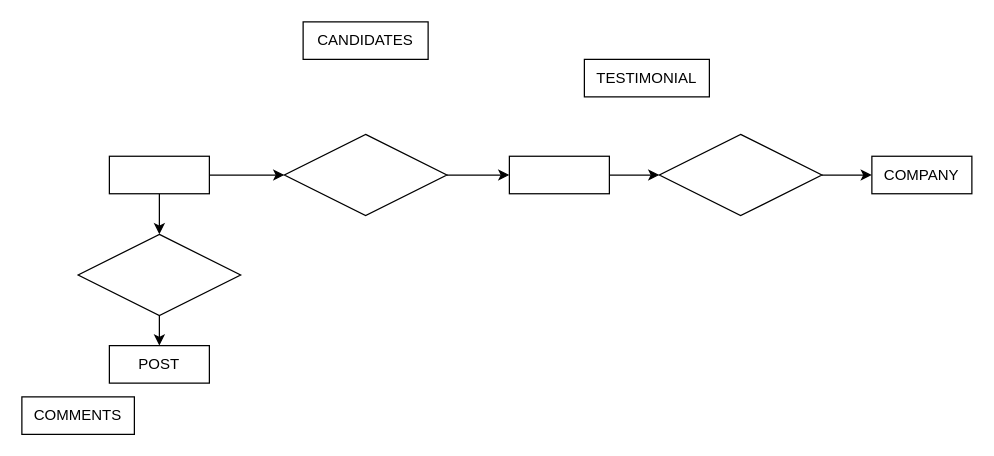
The diagram is 994 pixels wide and 456 high, and some of its shapes have lost their labels. The shapes that lost their labels are listed below. From the top down, each one's centre as x and y in pixels, then its label:
point (158, 174): USER
point (558, 174): JOB
